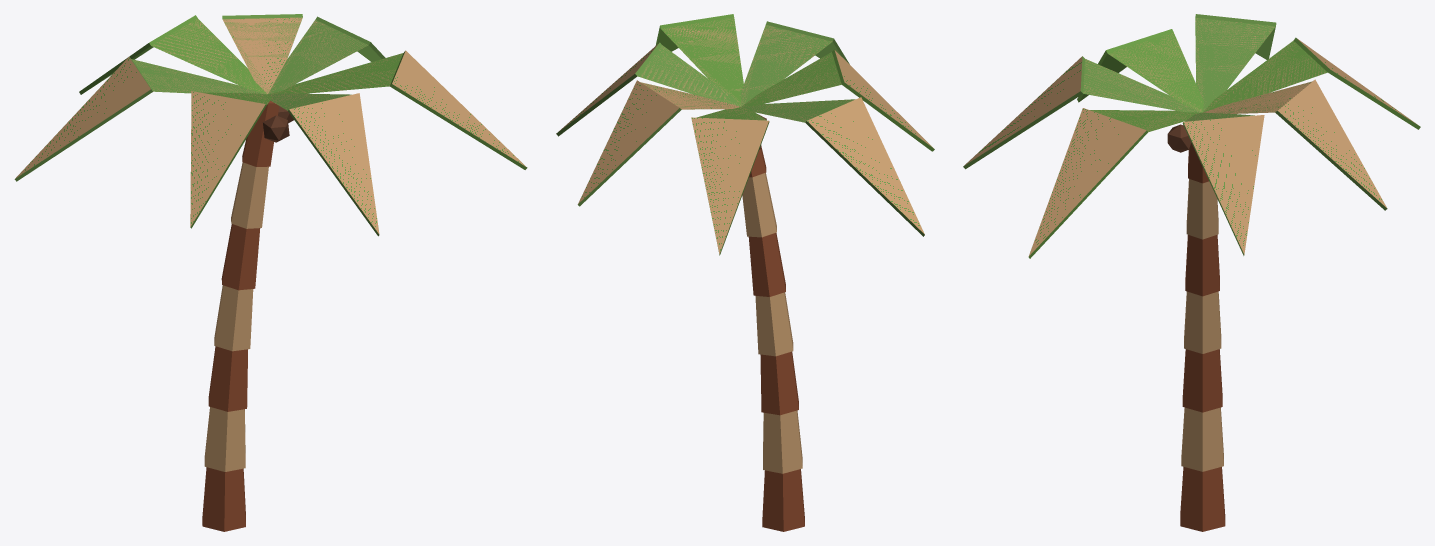
Rendered from Palm_Tree_B.glb.
The picture shows the model from 3 angles, left to right: view 1: azimuth 30°, elevation 25°; view 2: azimuth 150°, elevation 25°; view 3: azimuth 270°, elevation 25°; orthographic projection. The views are drawn at different scales.
Visible parts, largest first — view 1: Palm_Tree_B; view 2: Palm_Tree_B; view 3: Palm_Tree_B.
Part boxes in pixels (x1,y1,x2,y2): Palm_Tree_B: [14, 14, 527, 531]; Palm_Tree_B: [556, 14, 934, 531]; Palm_Tree_B: [963, 14, 1420, 531].
Size of the model in its own units: 3.64 by 3.98 by 3.52.
1 material, 1 textured.
